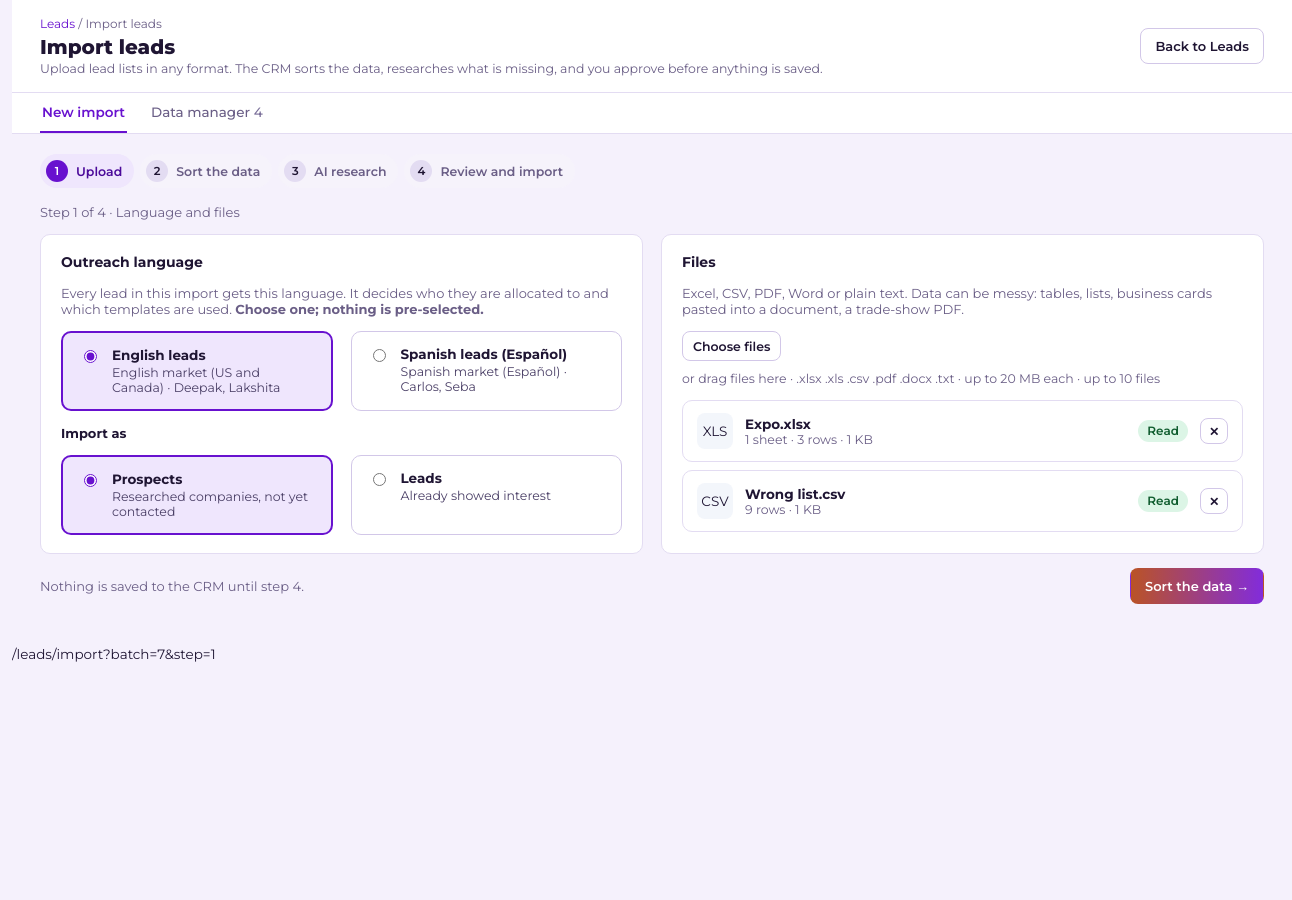
Scenario: step 1: remove an uploaded file (26 Nov 2026) › a removal refreshes the batch as well as the file list
Click the button named "Remove Wrong list.csv" at (1214, 501), box [1200,488,1228,514]
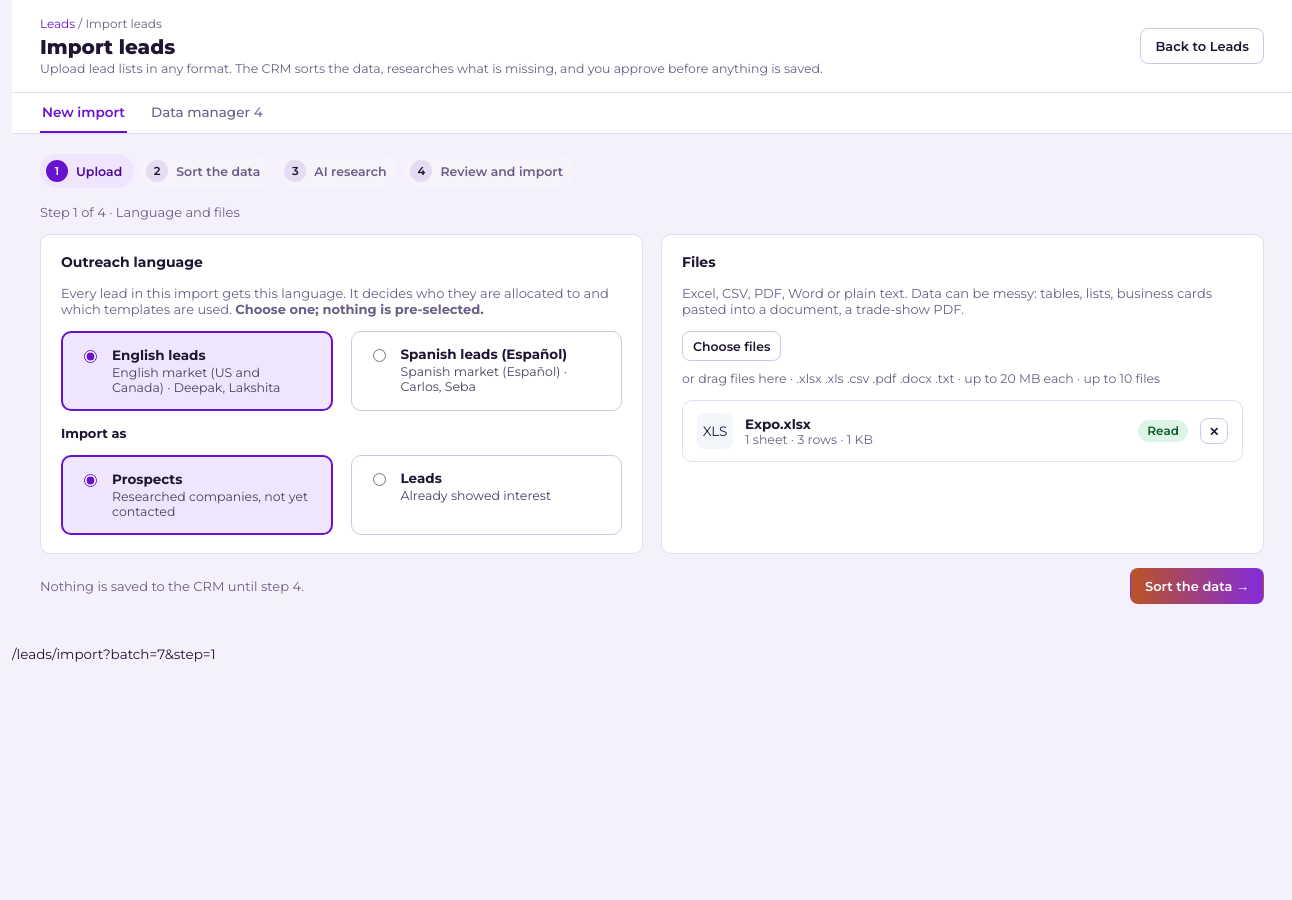
Now the text "Wrong list.csv" is gone
